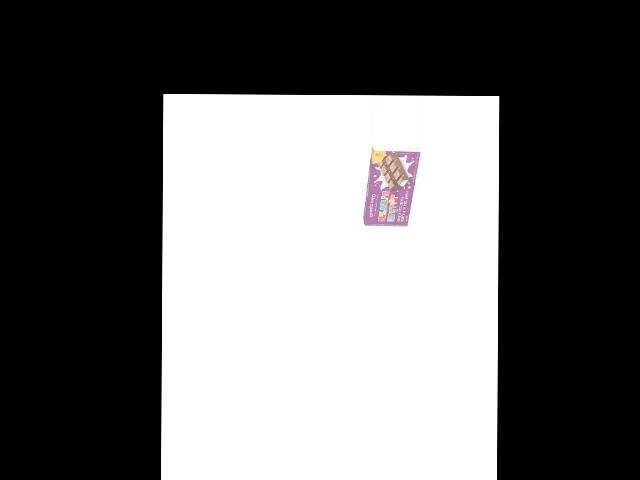chocolate: (363, 144, 416, 232)
